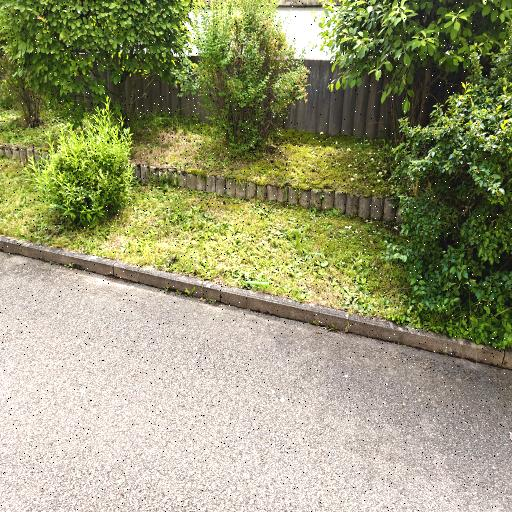Probe-Detection: (245, 280, 269, 287)
